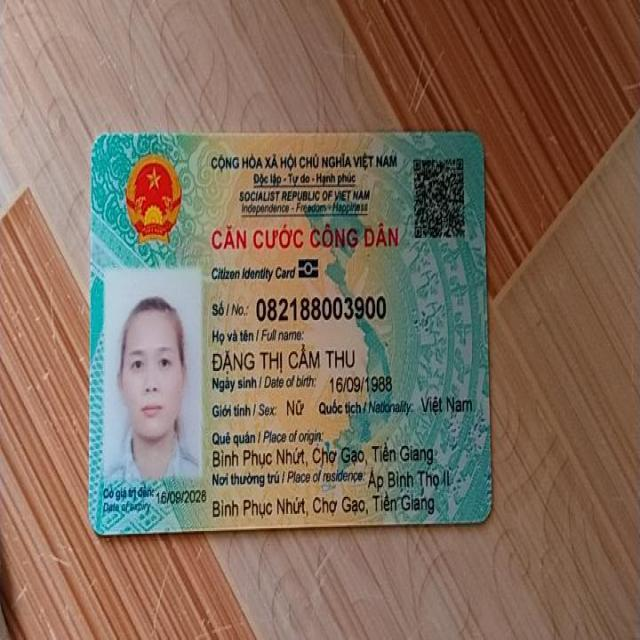bottom_left: (74, 512, 116, 546)
bottom_right: (468, 495, 502, 538)
image_person: (105, 266, 206, 490)
top_left: (81, 122, 114, 155)
top_right: (460, 126, 492, 157)
